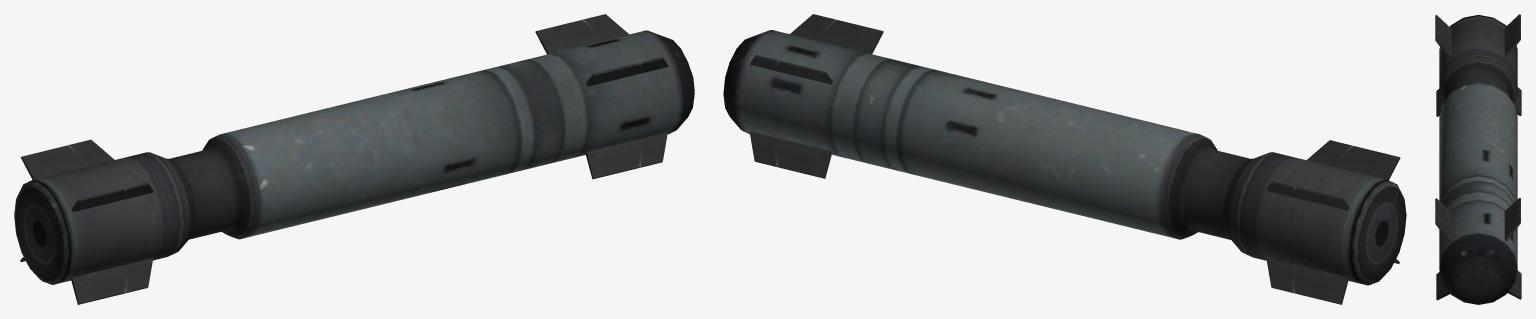
Rendered from Rocket.fbx.
3 renders of one model, left to right at view 1: azimuth 30°, elevation 25°; view 2: azimuth 150°, elevation 25°; view 3: azimuth 270°, elevation 25°, orthographic. The views are drawn at different scales.
Visible parts, largest first — view 1: rocket_launcher_rocket; view 2: rocket_launcher_rocket; view 3: rocket_launcher_rocket.
Part boxes in pixels (<box>): rocket_launcher_rocket: <box>14,14,694,304</box>; rocket_launcher_rocket: <box>723,14,1406,304</box>; rocket_launcher_rocket: <box>1435,14,1521,304</box>.
Size of the model in its own units: 38.14 by 6.14 by 6.14.
1 material, 1 textured.
